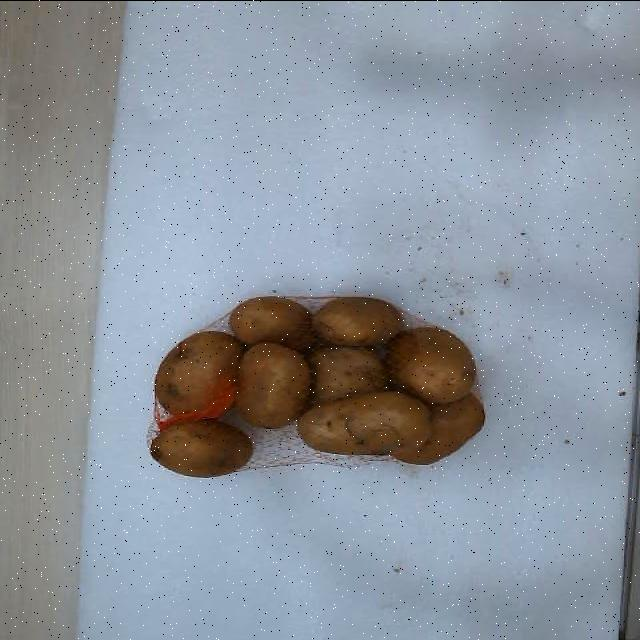potato: (298, 390, 431, 454), (155, 330, 242, 418), (387, 326, 475, 402), (235, 341, 309, 428), (393, 394, 484, 464), (150, 420, 252, 476), (230, 296, 314, 350), (308, 346, 388, 402), (312, 296, 401, 345)
